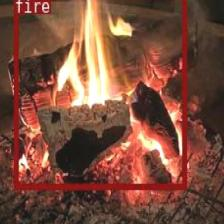fire: (14, 0, 187, 188)
